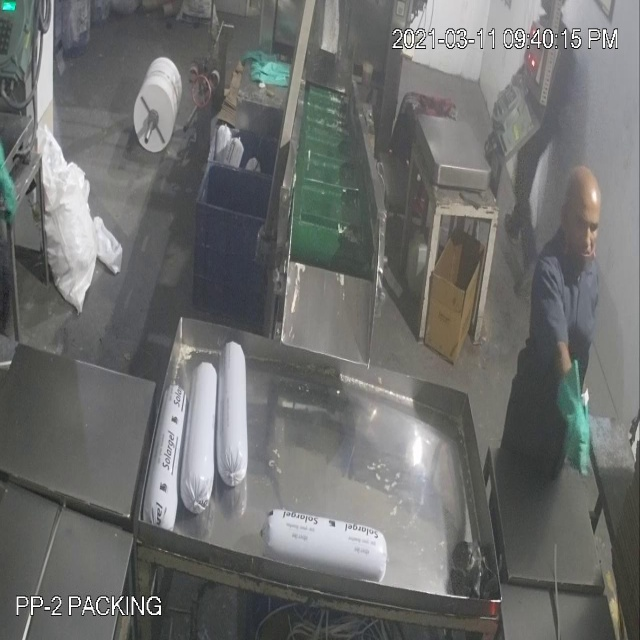Guantes: (552, 358, 602, 482)
